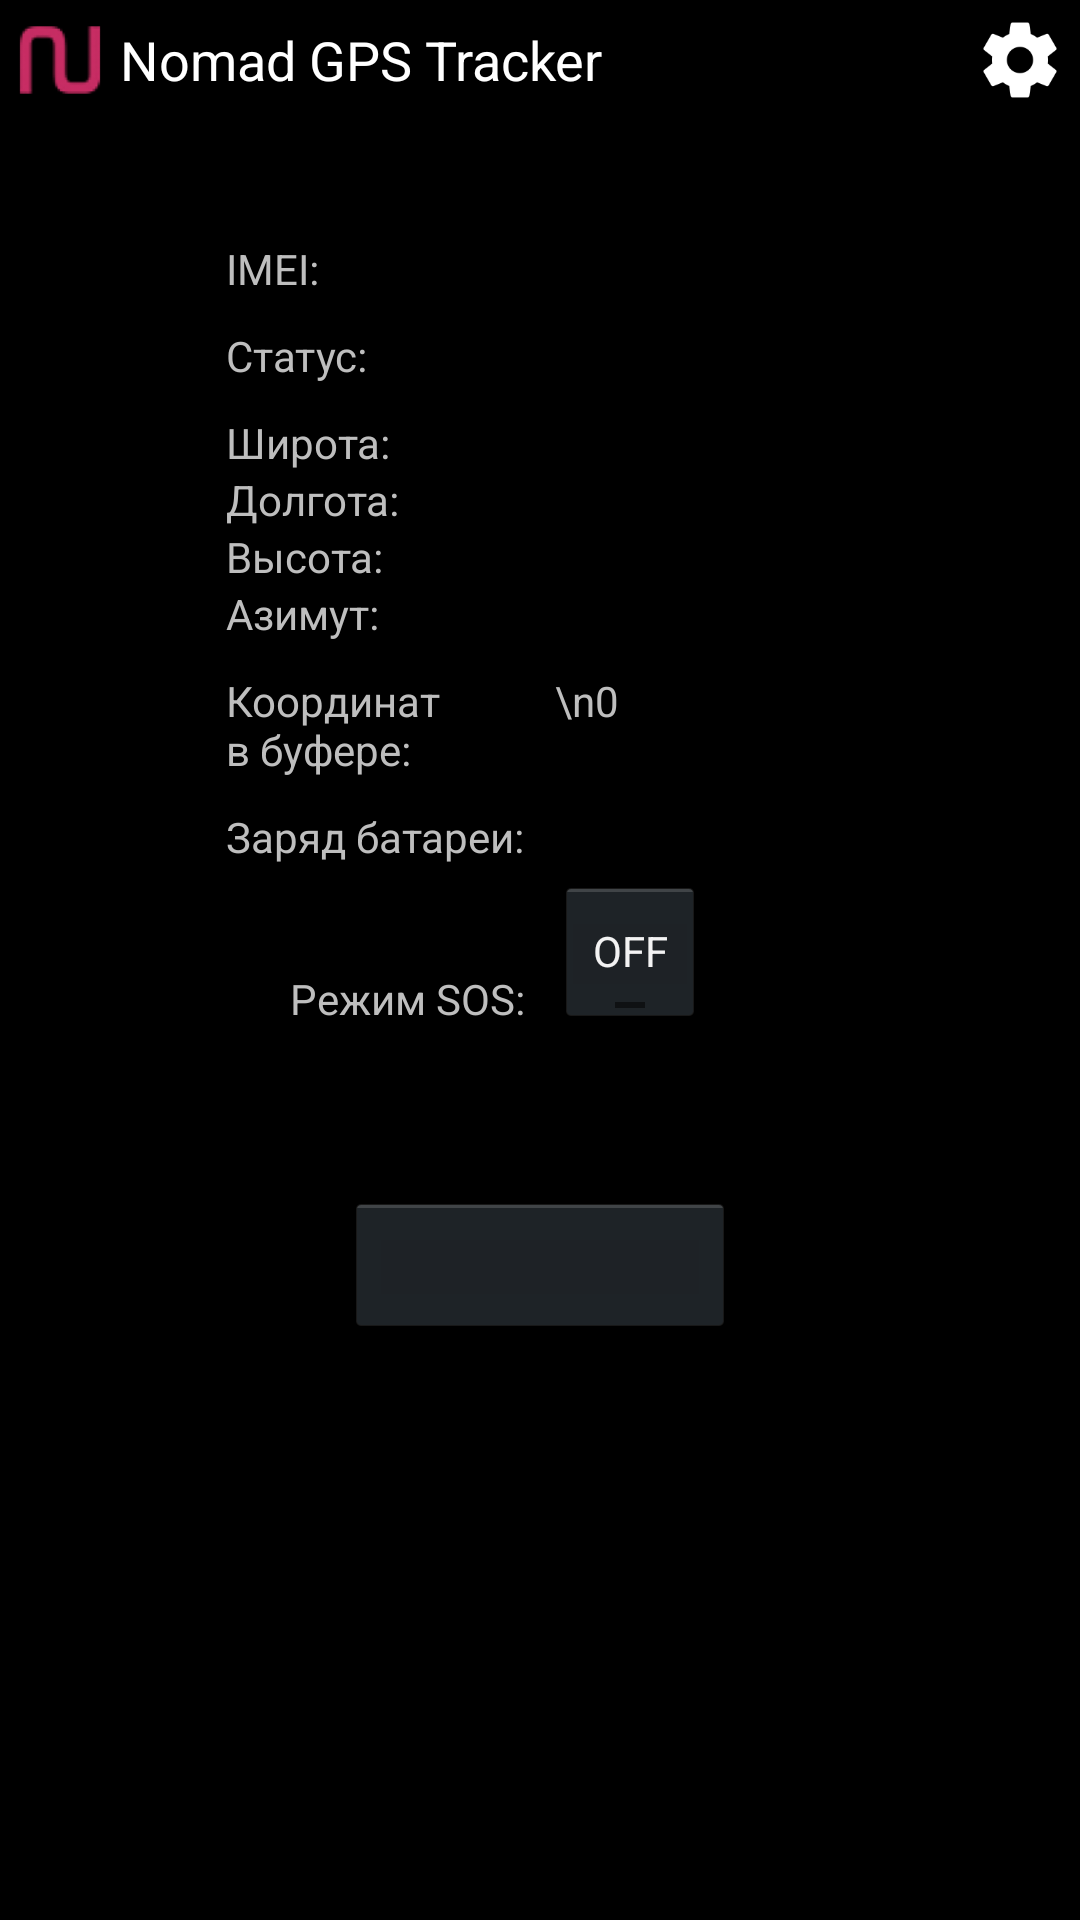

Icon click points for this 1080px×1920px phone screenshot, format (x=x, y=y):
settings: (x=1020, y=60)
